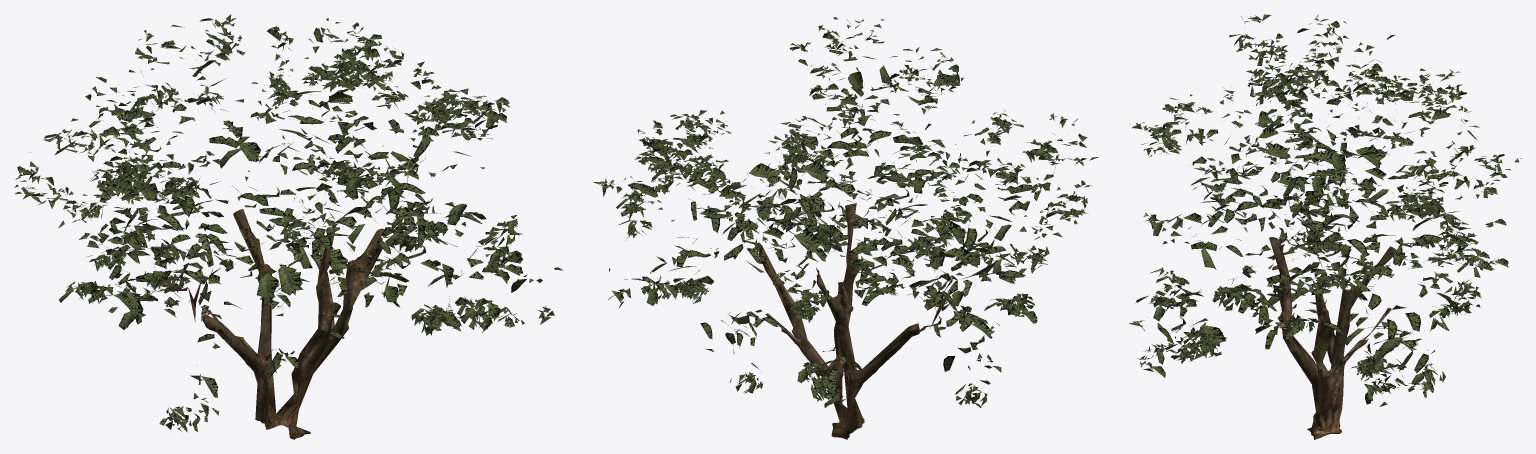
The model's file is arbre_jacaranda_lod1.glb.
3 views of the same model, side by side, from view 1: azimuth 30°, elevation 25°; view 2: azimuth 150°, elevation 25°; view 3: azimuth 270°, elevation 25° (orthographic). The views are drawn at different scales.
Visible parts, largest first — view 1: jacaranda_tree_LOD0; view 2: jacaranda_tree_LOD0; view 3: jacaranda_tree_LOD0.
Part boxes in pixels (box(x1,y1,x2,y2)): jacaranda_tree_LOD0: box(14, 14, 562, 439); jacaranda_tree_LOD0: box(593, 17, 1098, 439); jacaranda_tree_LOD0: box(1129, 14, 1521, 439).
Size of the model in its own units: 23.78 by 19.24 by 18.19.
3 materials, 3 textured.
